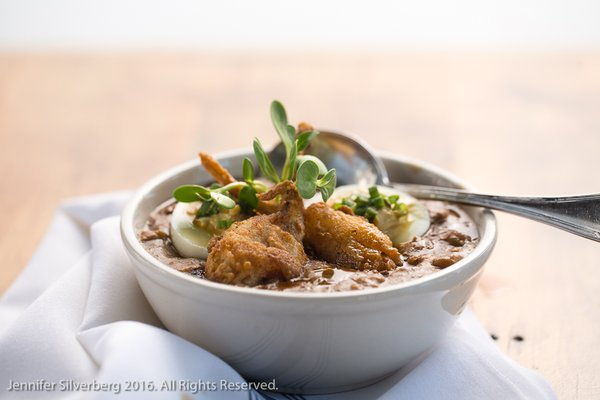sushi: (118, 134, 515, 392)
